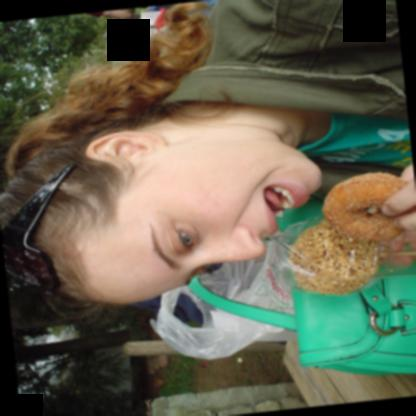handbag: (185, 261, 416, 377)
